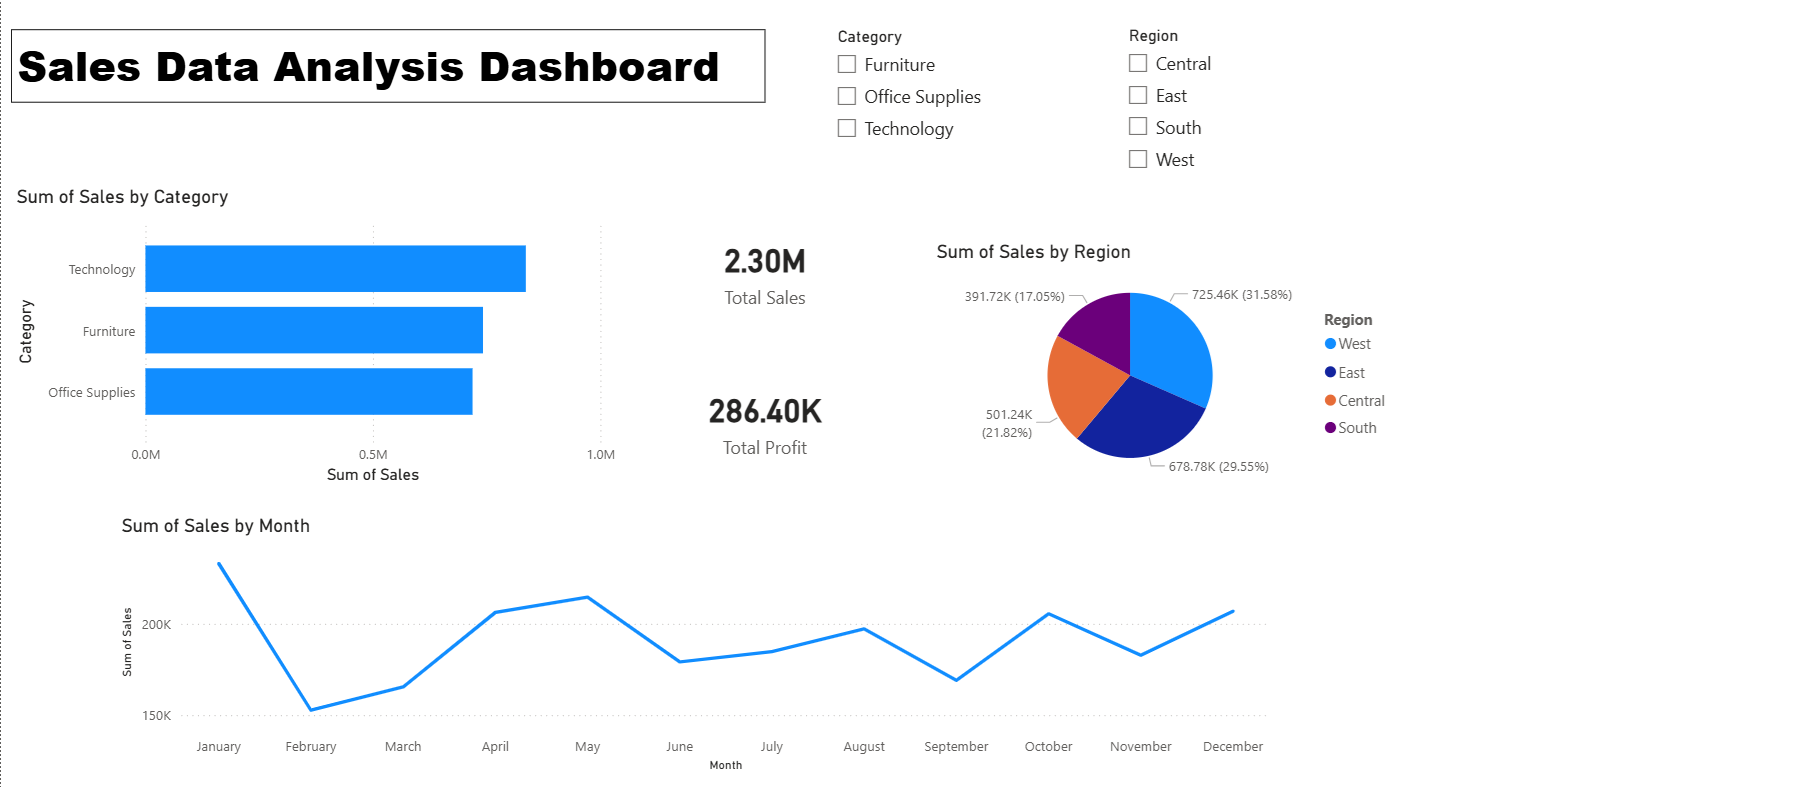

This screenshot's page, from the dashboard's own definition file:
{"tool":"powerbi","page":{"name":"Page 1","canvas":[1280,720],"ordinal":0},"visuals":[{"type":"card","fields":{"Values":["Sum(Table1.Sales)"]},"box":[573.6,189.6,235.9,122.1],"z":0},{"type":"card","fields":{"Values":["Sum(Table1.Profit)"]},"box":[573.6,324.7,235.9,124.4],"z":1000},{"type":"clusteredBarChart","fields":{"Category":["Table1.Category"],"Y":["Sum(Table1.Sales)"]},"box":[9.5,174.2,552.3,275],"z":2000},{"type":"pieChart","fields":{"Y":["Sum(Table1.Sales)"],"Category":["Table1.Region"]},"box":[841.5,224,425.5,225.2],"z":3000},{"type":"lineChart","fields":{"Y":["Sum(Table1.Sales)"],"Category":["Table1.Order Date.Variation.Date Hierarchy.Month"]},"box":[104.3,471.7,1048.9,238.2],"z":4000},{"type":"slicer","fields":{"Values":["Table1.Region"]},"box":[1006.9,25.1,205.7,149.7],"z":5000},{"type":"slicer","fields":{"Values":["Table1.Category"]},"box":[744.2,25.6,232.6,148.8],"z":6000},{"type":"textbox","box":[9.5,33.2,682.7,66.4],"z":7000}]}

Visuals, with their boxes on the page's 1280x720 design canvas (x1, y1, x2, y2). These are canvas units, not pixel positions in the 1811x787 screenshot, which may show the page scaled, cropped or inside an application window:
card - Sum(Table1.Sales): <box>574,190,810,312</box>
card - Sum(Table1.Profit): <box>574,325,810,449</box>
clusteredBarChart - Table1.Category x Sum(Table1.Sales): <box>10,174,562,449</box>
pieChart - Sum(Table1.Sales) x Table1.Region: <box>842,224,1267,449</box>
lineChart - Sum(Table1.Sales) x Table1.Order Date.Variation.Date Hierarchy.Month: <box>104,472,1153,710</box>
slicer - Table1.Region: <box>1007,25,1213,175</box>
slicer - Table1.Category: <box>744,26,977,174</box>
textbox: <box>10,33,692,100</box>
